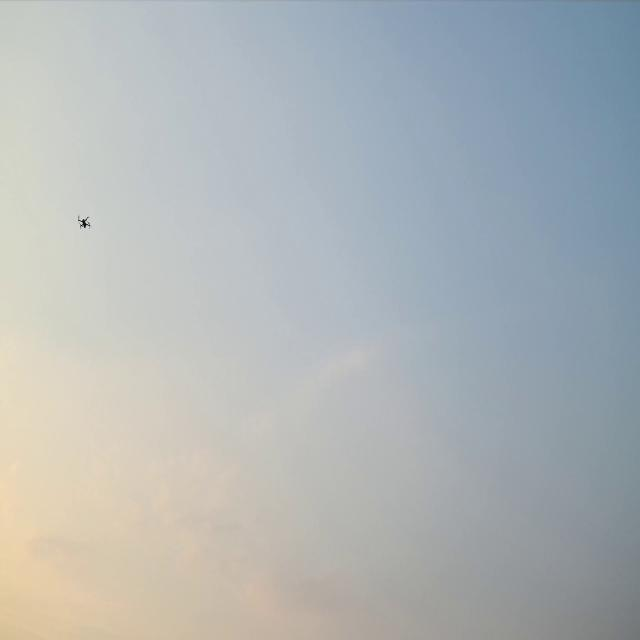UAV: (78, 216, 90, 228)
